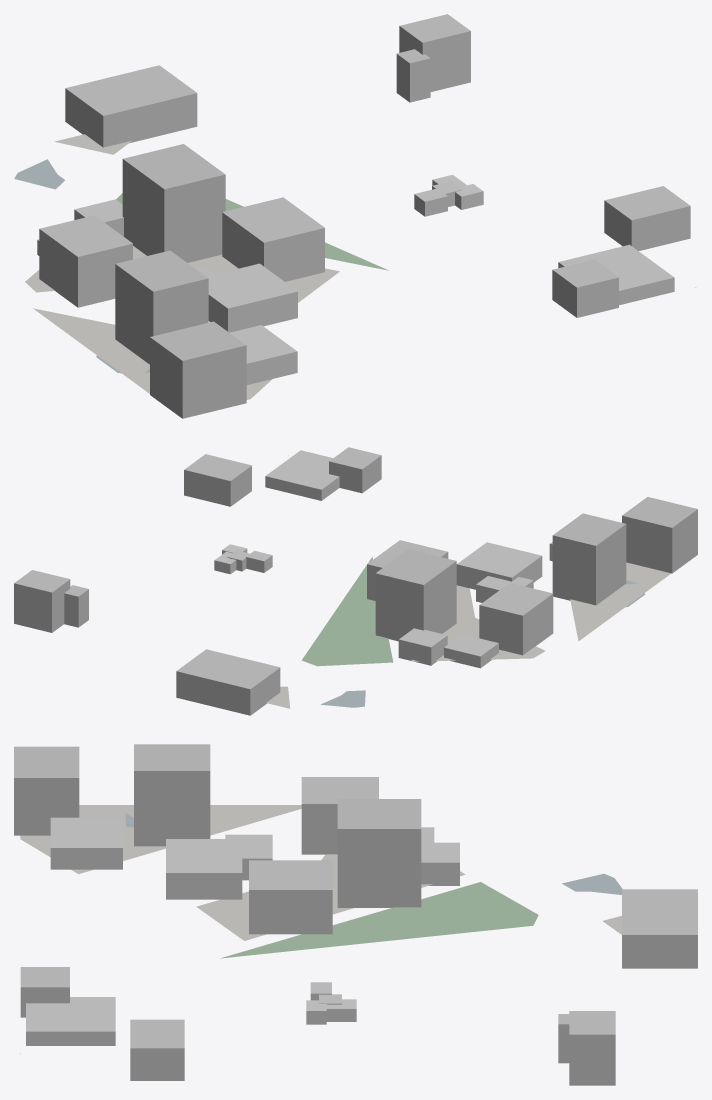
File: 134_85_mid.glb
3 renders of one model, top to bottom at view 1: azimuth 30°, elevation 25°; view 2: azimuth 150°, elevation 25°; view 3: azimuth 270°, elevation 25°, orthographic. The views are drawn at different scales.
Bounding box in the file's own units: 511 × 72.65 × 536.
